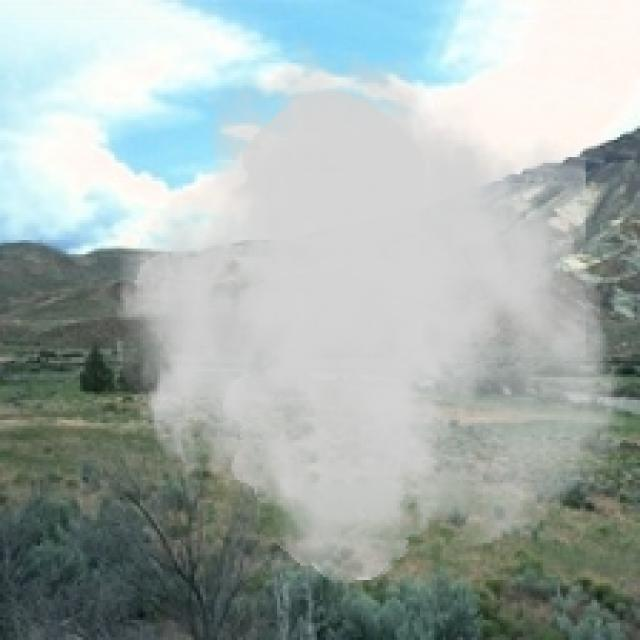Smoke: (109, 34, 632, 583)
